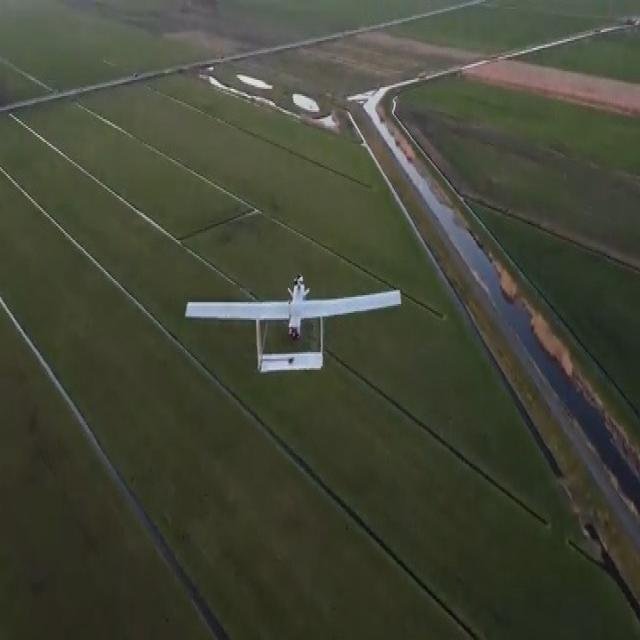drones: (180, 246, 408, 390)
